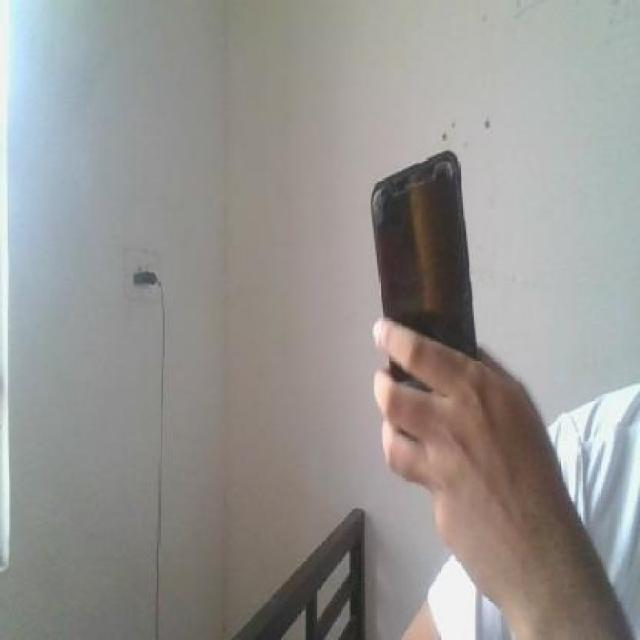Phone: (367, 147, 479, 381)
